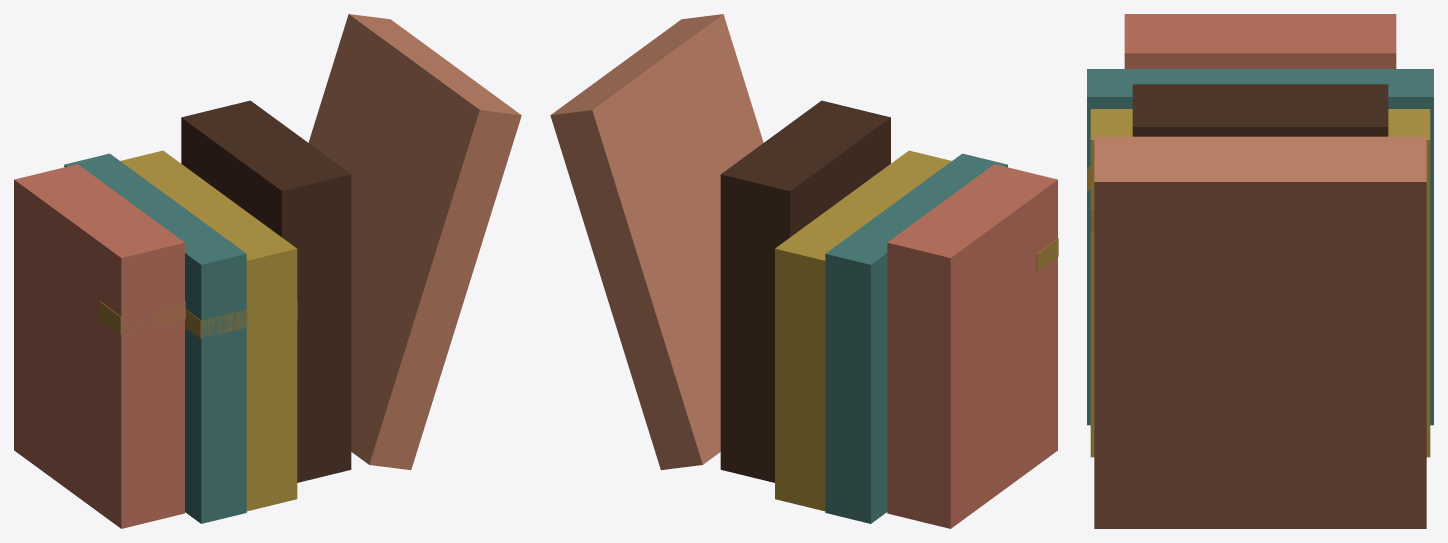
File: book-stack-18.glb
3 renders of one model, left to right at view 1: azimuth 30°, elevation 25°; view 2: azimuth 150°, elevation 25°; view 3: azimuth 270°, elevation 25°, orthographic. The views are drawn at different scales.
Visible parts, largest first — view 1: book_stack_18; view 2: book_stack_18; view 3: book_stack_18.
Boxes of the visible parts, box(x1,y1,x2,y2) form: book_stack_18: box(14, 14, 521, 528); book_stack_18: box(550, 14, 1058, 528); book_stack_18: box(1087, 14, 1433, 528).
Bounding box in the file's own units: 0.272 × 0.2295 × 0.1659.
